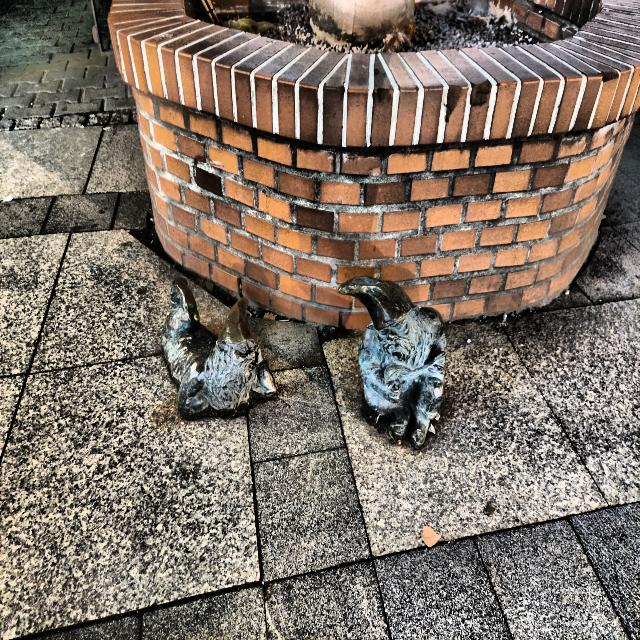Grajek_i_Meloman: (162, 277, 447, 447)
